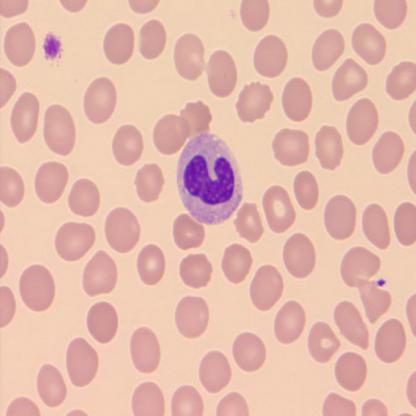Band Neutrophil: (175, 131, 245, 228)
